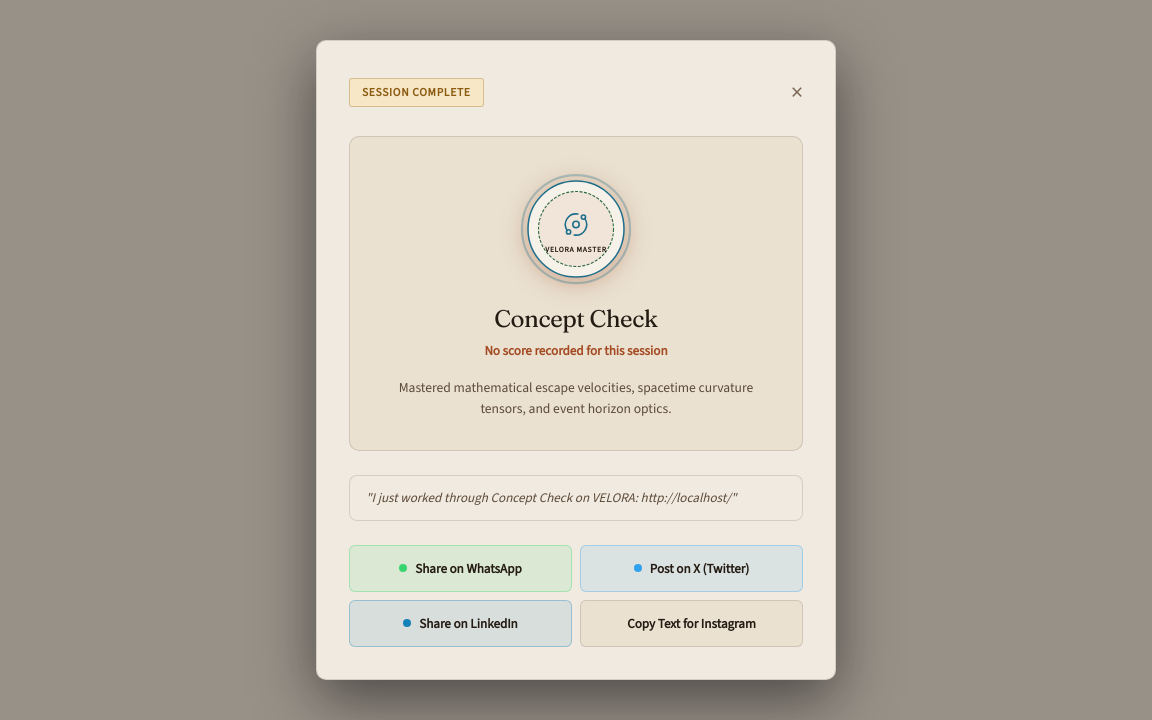
Copy buttons when the clipboard is unavailable › does report success when the write works
This screenshot has width=1152, height=720.
Click the button "Copy Text for Instagram": x=692, y=623 [580,600,803,647]
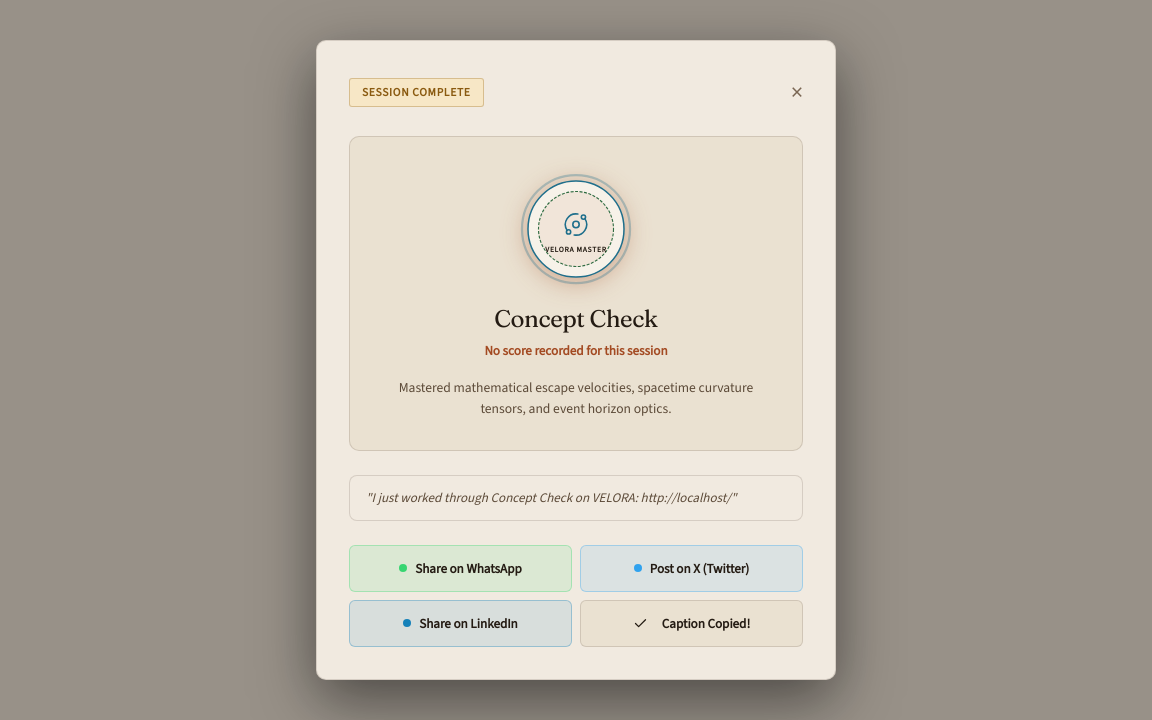
Now the button "Caption Copied!" is shown, box [580,600,803,647]
